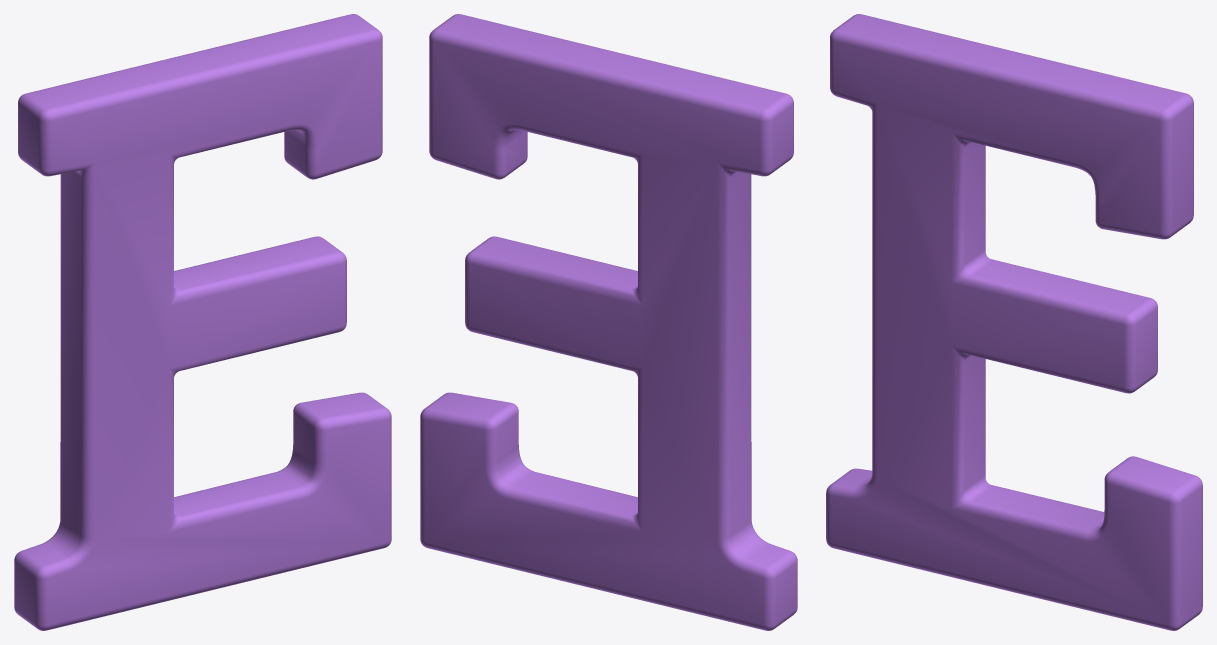
3 views of the same model, side by side, from view 1: azimuth 30°, elevation 25°; view 2: azimuth 150°, elevation 25°; view 3: azimuth 330°, elevation 25° (orthographic).
Visible parts, largest first — view 1: 텍스트; view 2: 텍스트; view 3: 텍스트.
Part boxes in pixels (left/top/right/bottom): 텍스트: left=14, top=14, right=391, bottom=630; 텍스트: left=420, top=14, right=797, bottom=630; 텍스트: left=826, top=14, right=1202, bottom=630.
Size of the model in its own units: 0.3498 by 0.4897 by 0.05.
